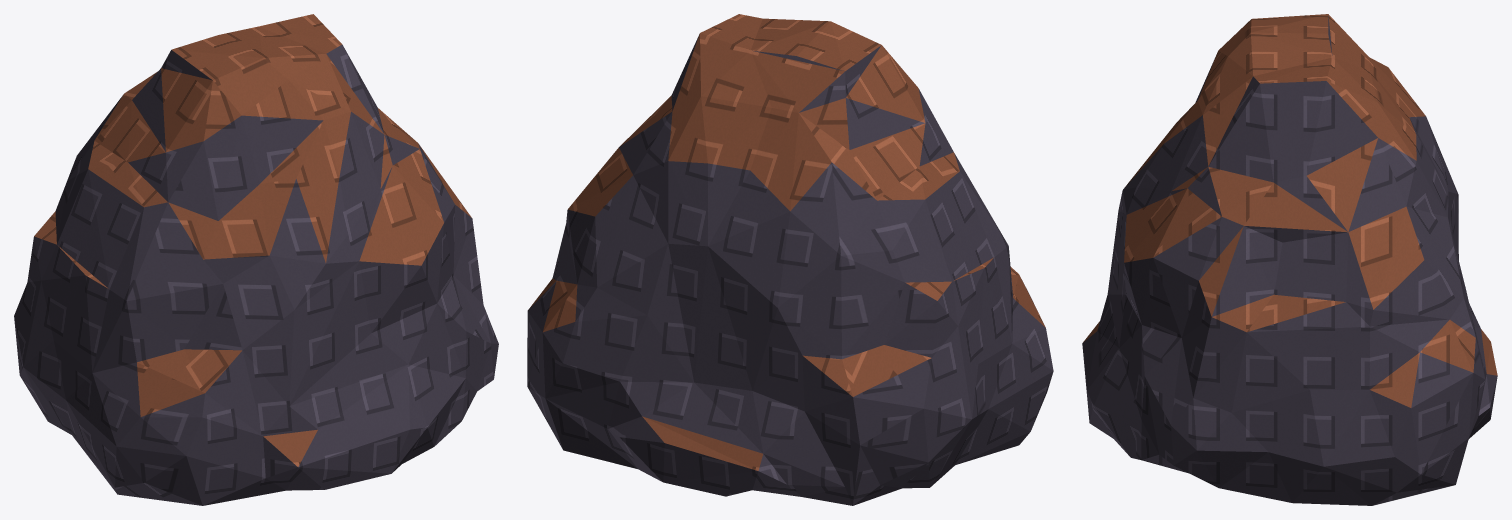
File: BasaltRoundBoulder.glb
3 views of the same model, side by side, from view 1: azimuth 30°, elevation 25°; view 2: azimuth 150°, elevation 25°; view 3: azimuth 270°, elevation 25° (orthographic). The views are drawn at different scales.
Visible parts, largest first — view 1: BasaltRoundBoulder_Rock, BasaltRoundBoulder_Top; view 2: BasaltRoundBoulder_Rock, BasaltRoundBoulder_Top; view 3: BasaltRoundBoulder_Rock, BasaltRoundBoulder_Top.
Boxes of the visible parts, x1,y1,x2,y2 form: BasaltRoundBoulder_Rock: (14,44,498,505); BasaltRoundBoulder_Top: (34,14,471,466); BasaltRoundBoulder_Rock: (527,34,1053,505); BasaltRoundBoulder_Top: (528,14,1045,470); BasaltRoundBoulder_Rock: (1082,15,1497,505); BasaltRoundBoulder_Top: (1083,14,1497,407).
Bounding box in the file's own units: 8.34 × 7.53 × 7.22.
2 materials, 2 textured.
